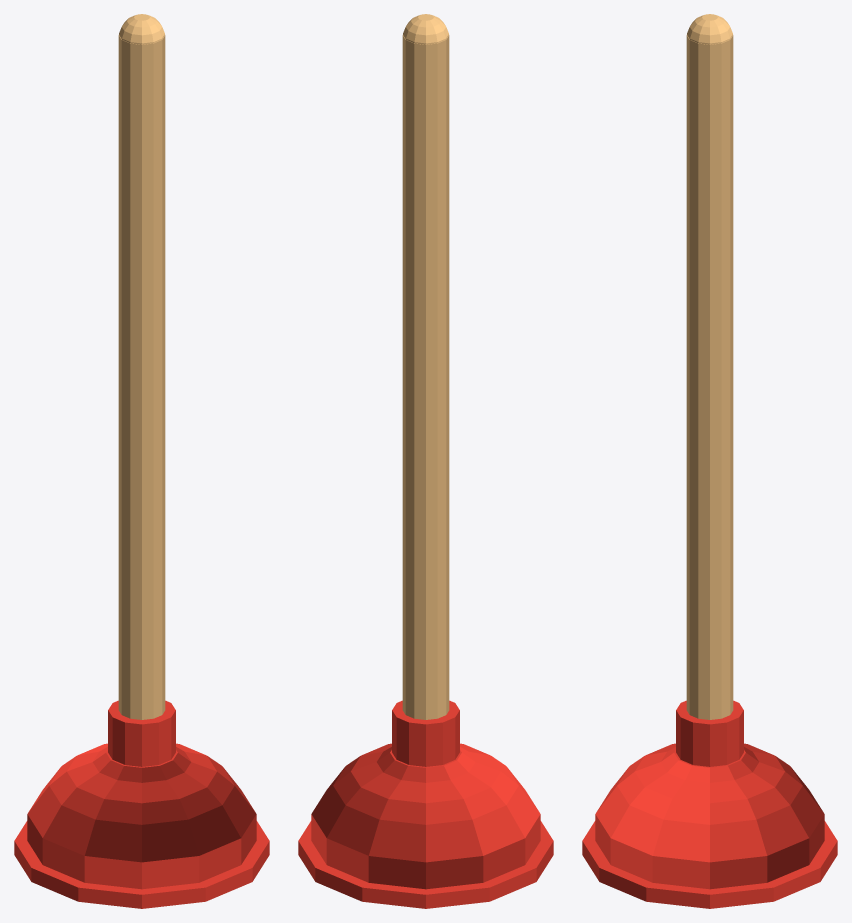
File: plunger.glb
The picture shows the model from 3 angles, left to right: view 1: azimuth 30°, elevation 25°; view 2: azimuth 150°, elevation 25°; view 3: azimuth 270°, elevation 25°; orthographic projection.
Parts seen in each view (by area): view 1: Node; view 2: Node; view 3: Node.
Boxes of the visible parts, x1,y1,x2,y2 form: Node: [14, 14, 269, 908]; Node: [298, 14, 553, 908]; Node: [582, 14, 837, 908].
Size of the model in its own units: 0.49 by 1.78 by 0.49.
